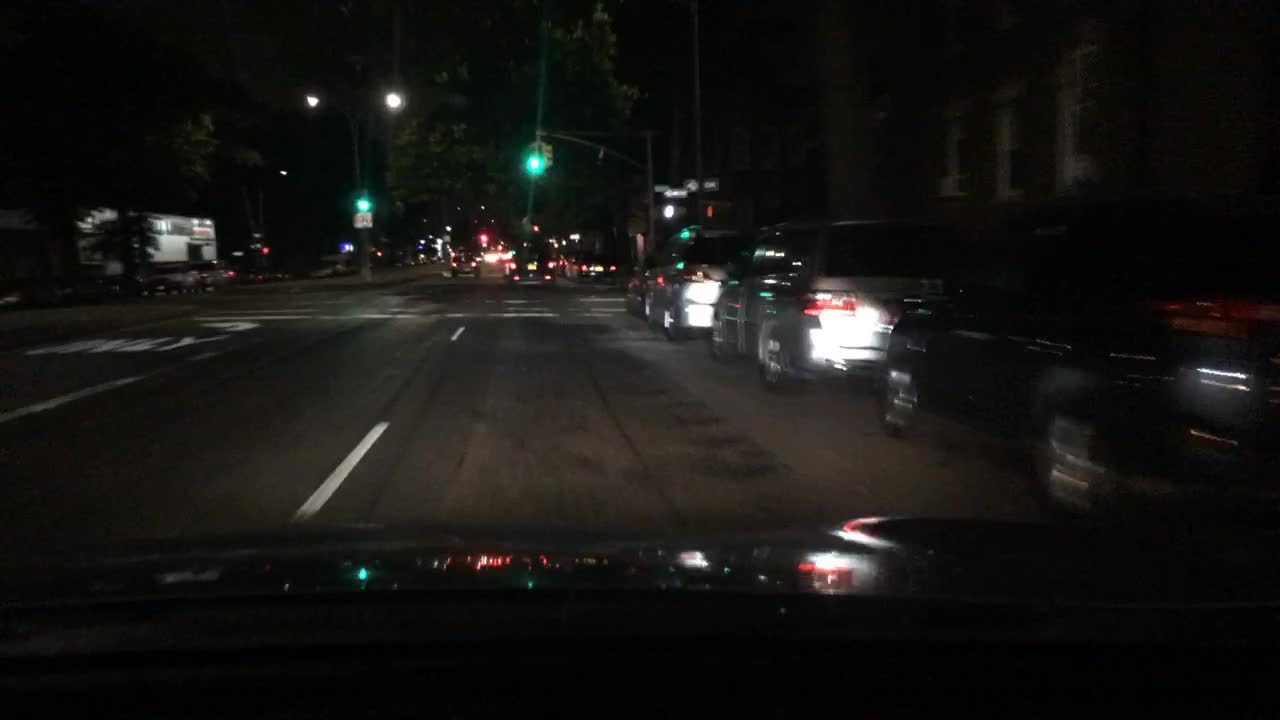car: (881, 213, 1277, 543), (707, 213, 978, 390), (627, 222, 754, 343), (128, 263, 198, 299), (506, 251, 550, 287), (194, 261, 236, 287), (582, 251, 616, 282), (449, 249, 481, 280), (554, 249, 581, 278), (400, 247, 426, 264), (487, 249, 510, 264)
traffic light: (526, 146, 543, 177), (541, 144, 554, 171), (356, 190, 369, 209)
traffic sign: (686, 179, 716, 192), (352, 211, 373, 228), (667, 186, 688, 200), (653, 182, 670, 192)
